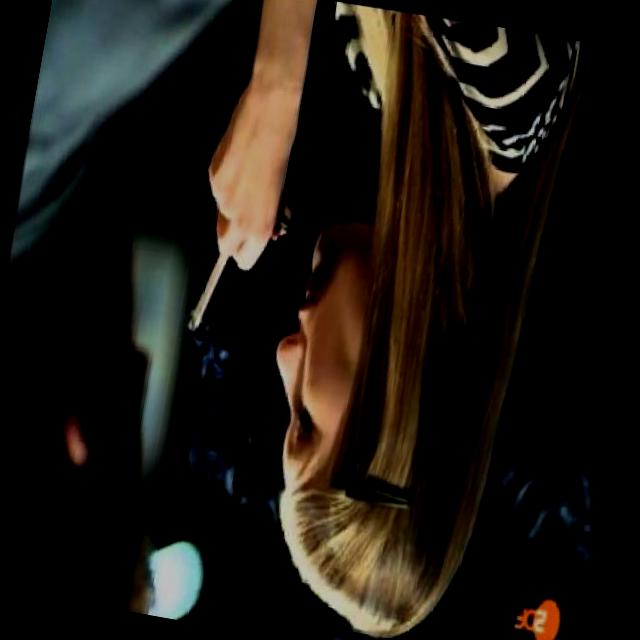cigarette: (180, 243, 234, 337)
